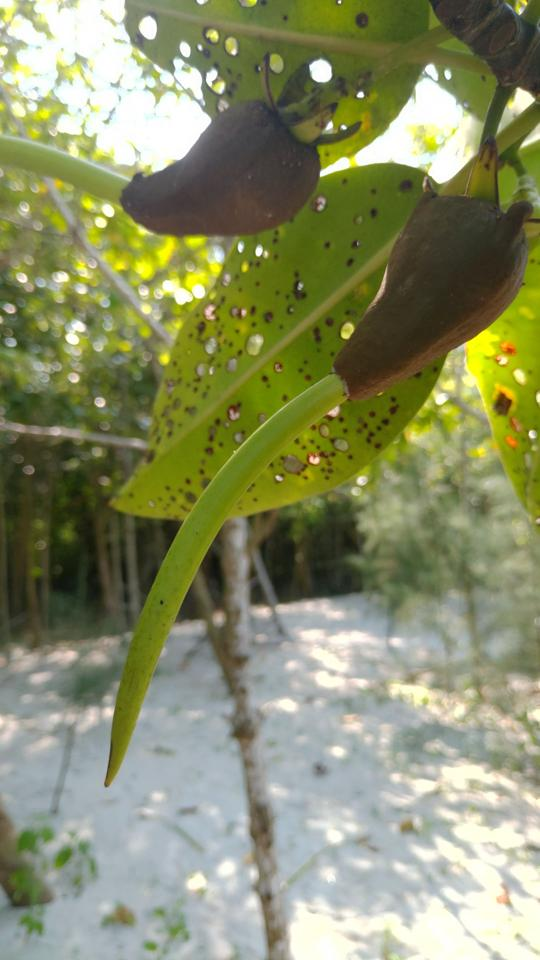mentah: (89, 125, 537, 797)
